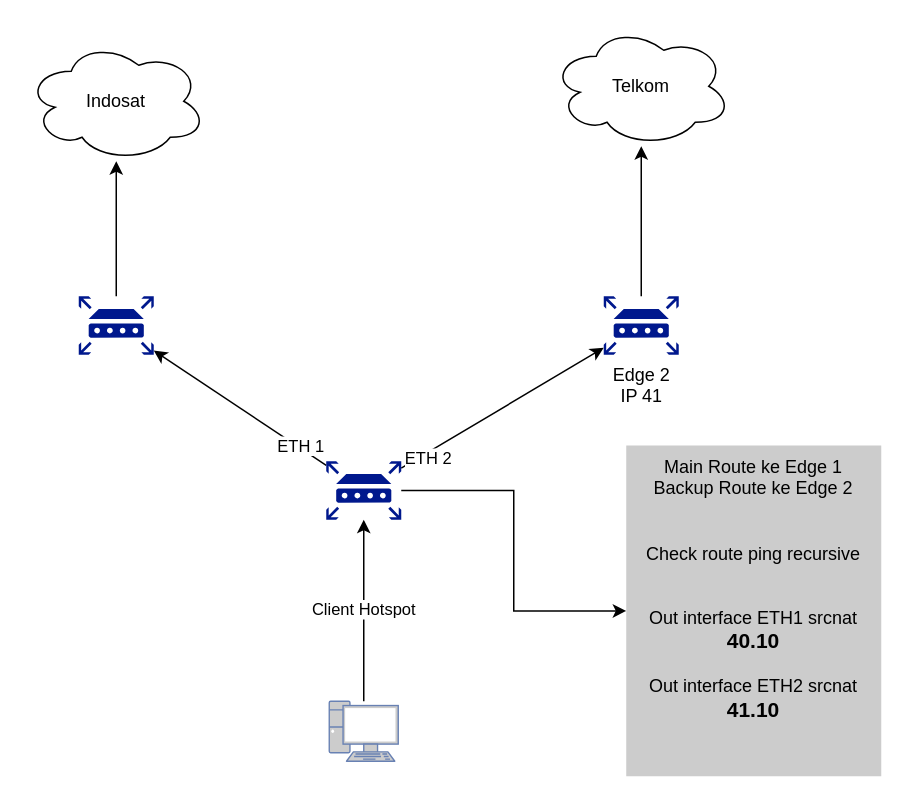
Some shapes in this 908 by 803 pixel diagram are drawn without their labels. The shapes that lost their labels are listed below. From the top down, each one's centre as x and y in pixels, then its label:
At [115,325]: "Edge 1 IP 40".
At [363,489]: "Router Distribusi".
